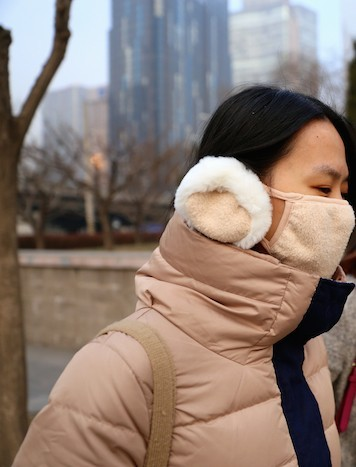with_mask: (256, 101, 356, 284)
